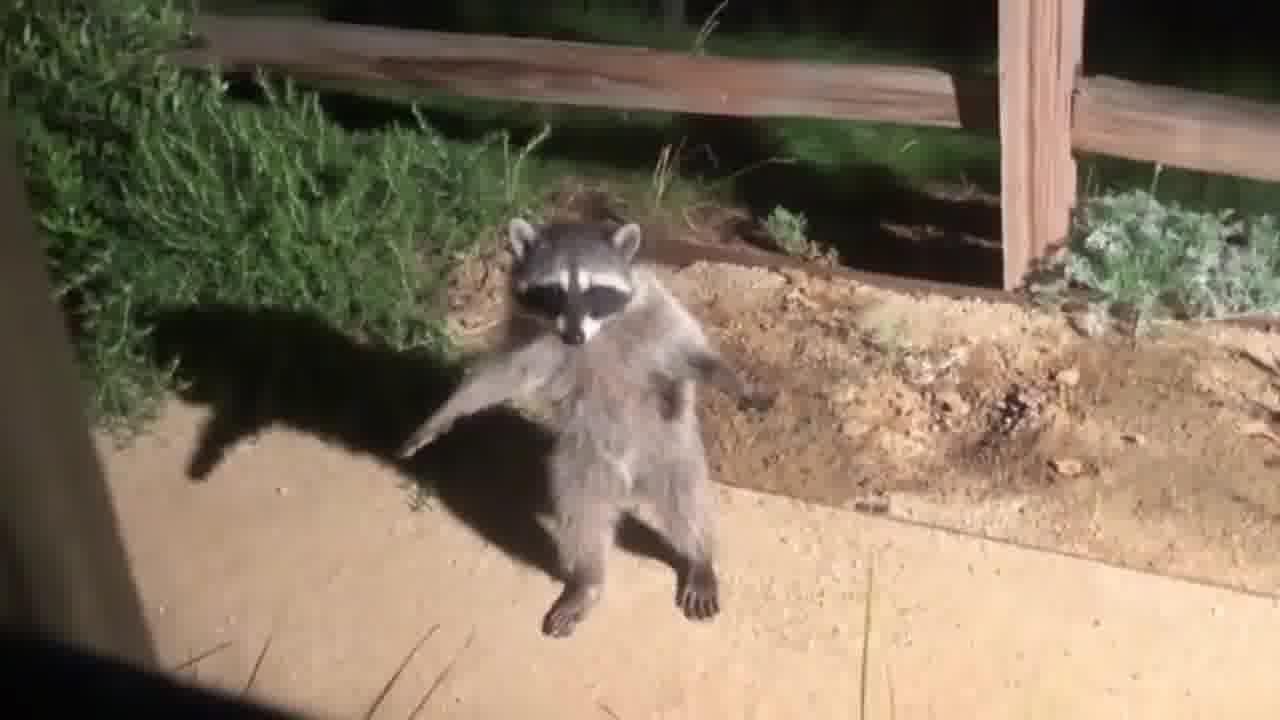raccoon: (388, 210, 784, 647)
